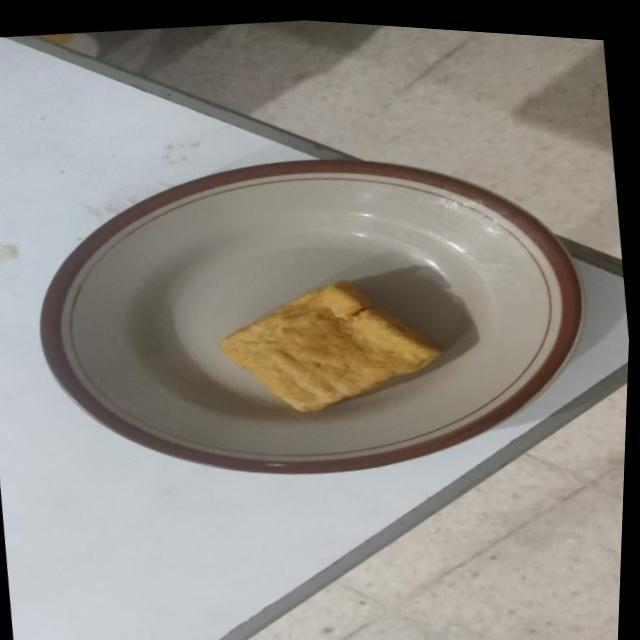tahu_goreng: (220, 280, 440, 411)
